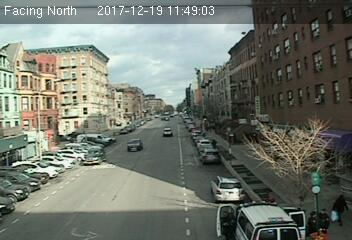car: (210, 174, 245, 201), (82, 145, 106, 166), (200, 148, 220, 163), (126, 139, 143, 152), (162, 127, 173, 136)
police: (216, 199, 306, 240)
